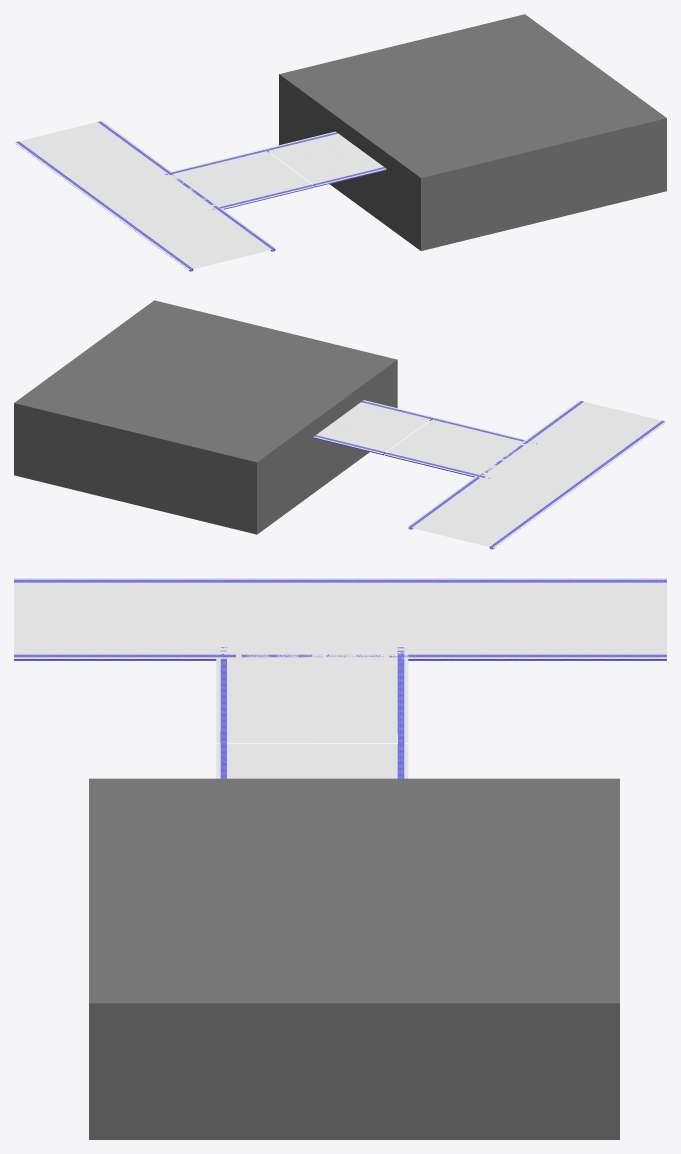
Rendered from O_N_CenterPlatform.fbx.
3 renders of one model, top to bottom at view 1: azimuth 30°, elevation 25°; view 2: azimuth 150°, elevation 25°; view 3: azimuth 270°, elevation 25°, orthographic. The views are drawn at different scales.
Parts seen in each view (by area): view 1: Cube, Plane.195 4, Plane.195 3, Plane.191 2, Plane.191 3, Plane.195 5, Plane.191 4, Plane.195 2, Plane.195 6, Plane.195 8, Plane.195 7, Plane.195 9 (+9 smaller); view 2: Cube, Plane.191 2, Plane.195 2, Plane.195 6, Plane.195 4, Plane.195 3, Plane.191 4, Plane.195 8, Plane.191 3, Plane.195 5, Plane.195 7, Plane.191 9 (+9 smaller); view 3: Cube, Plane.191 4, Plane.191 3, Plane.191 5, Plane.195 3, Plane.195 4, Plane.195 6, Plane.195 5, Plane.195 2, Plane.195 7, Plane.191 8, Plane.195 8 (+14 smaller).
Boxes of the visible parts, left/top/right/bottom form: Cube: left=279, top=14, right=666, bottom=250; Plane.195 4: left=145, top=219, right=223, bottom=264; Plane.195 3: left=181, top=210, right=259, bottom=255; Plane.191 2: left=163, top=149, right=289, bottom=192; Plane.191 3: left=172, top=206, right=276, bottom=259; Plane.195 5: left=87, top=176, right=164, bottom=221; Plane.191 4: left=128, top=215, right=232, bottom=270; Plane.195 2: left=173, top=156, right=280, bottom=189; Plane.195 6: left=122, top=167, right=200, bottom=212; Plane.195 8: left=31, top=135, right=109, bottom=179; Plane.195 7: left=67, top=127, right=143, bottom=172; Plane.195 9: left=194, top=171, right=300, bottom=204; Cube: left=14, top=300, right=397, bottom=534; Plane.191 2: left=384, top=436, right=511, bottom=478; Plane.195 2: left=398, top=439, right=503, bottom=472; Plane.195 6: left=478, top=449, right=556, bottom=493; Plane.195 4: left=572, top=415, right=649, bottom=459; Plane.195 3: left=537, top=406, right=614, bottom=451; Plane.191 4: left=564, top=411, right=666, bottom=465; Plane.195 8: left=459, top=497, right=536, bottom=542; Plane.191 3: left=522, top=400, right=622, bottom=454; Plane.195 5: left=514, top=457, right=591, bottom=502; Plane.195 7: left=424, top=488, right=501, bottom=533; Plane.191 9: left=410, top=417, right=537, bottom=460; Cube: left=89, top=778, right=619, bottom=1139; Plane.191 4: left=14, top=578, right=240, bottom=618; Plane.191 3: left=14, top=618, right=240, bottom=658; Plane.191 5: left=234, top=578, right=460, bottom=618; Plane.195 3: left=25, top=622, right=229, bottom=646; Plane.195 4: left=25, top=590, right=229, bottom=614; Plane.195 6: left=245, top=622, right=449, bottom=646; Plane.195 5: left=245, top=590, right=449, bottom=614; Plane.195 2: left=322, top=652, right=379, bottom=738; Plane.195 7: left=451, top=622, right=655, bottom=646; Plane.191 8: left=440, top=578, right=666, bottom=618; Plane.195 8: left=452, top=590, right=655, bottom=614.
Bounding box in the file's own units: 1897 × 266 × 1151.
Materials: 5 (1 with a texture image).
